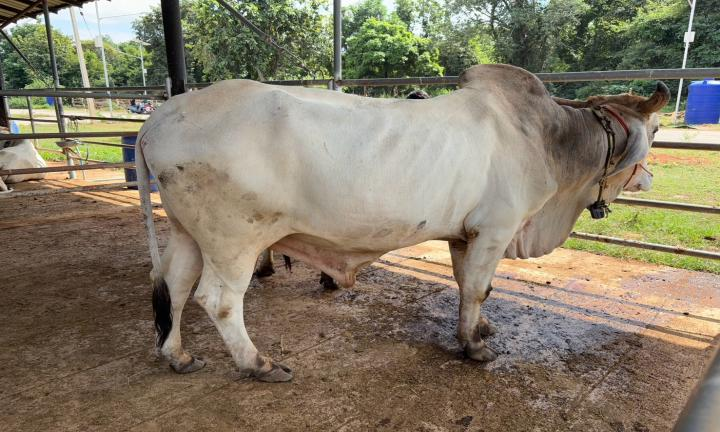Brahman: (136, 64, 669, 381)
